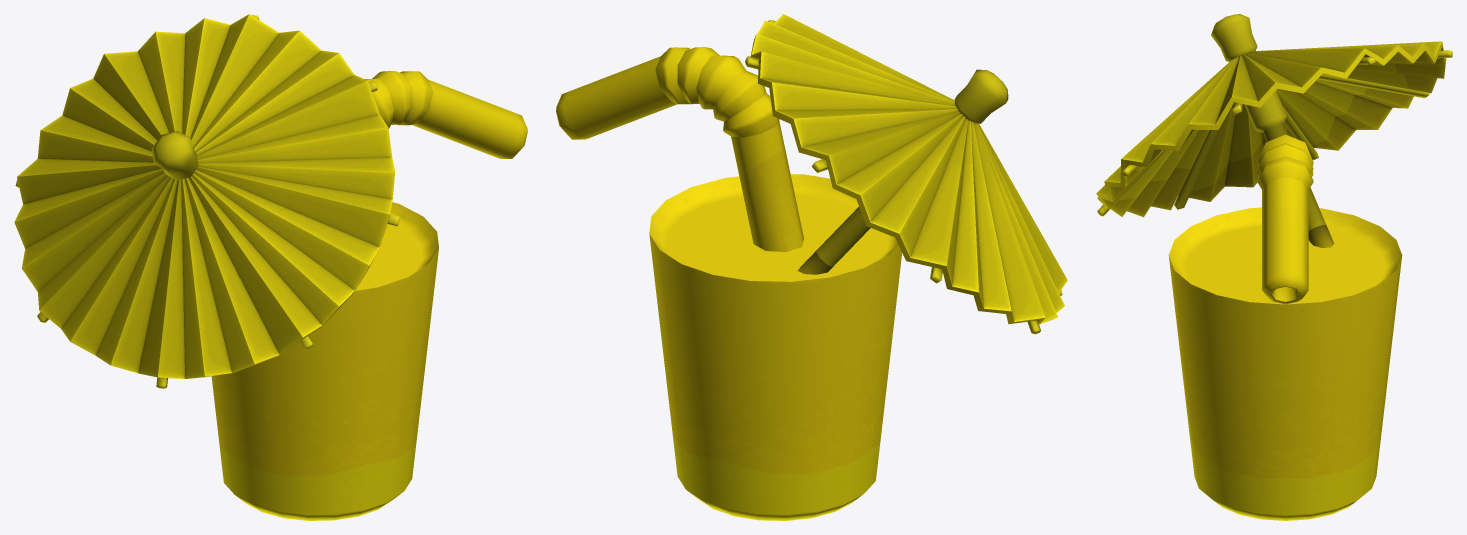
Rendered from Web_Smoothie_Mix_Yellow.obj.
3 views of the same model, side by side, from view 1: azimuth 30°, elevation 25°; view 2: azimuth 150°, elevation 25°; view 3: azimuth 270°, elevation 25° (orthographic). The views are drawn at different scales.
Parts seen in each view (by area): view 1: m_recipe_megaSmoothie_01(Clone)_0; view 2: m_recipe_megaSmoothie_01(Clone)_0; view 3: m_recipe_megaSmoothie_01(Clone)_0.
Part boxes in pixels (left/top/right/bottom): m_recipe_megaSmoothie_01(Clone)_0: left=14, top=14, right=527, bottom=520; m_recipe_megaSmoothie_01(Clone)_0: left=556, top=14, right=1067, bottom=520; m_recipe_megaSmoothie_01(Clone)_0: left=1096, top=14, right=1452, bottom=520.
Bounding box in the file's own units: 1.11 × 1.01 × 0.7635.
1 material, 1 textured.
